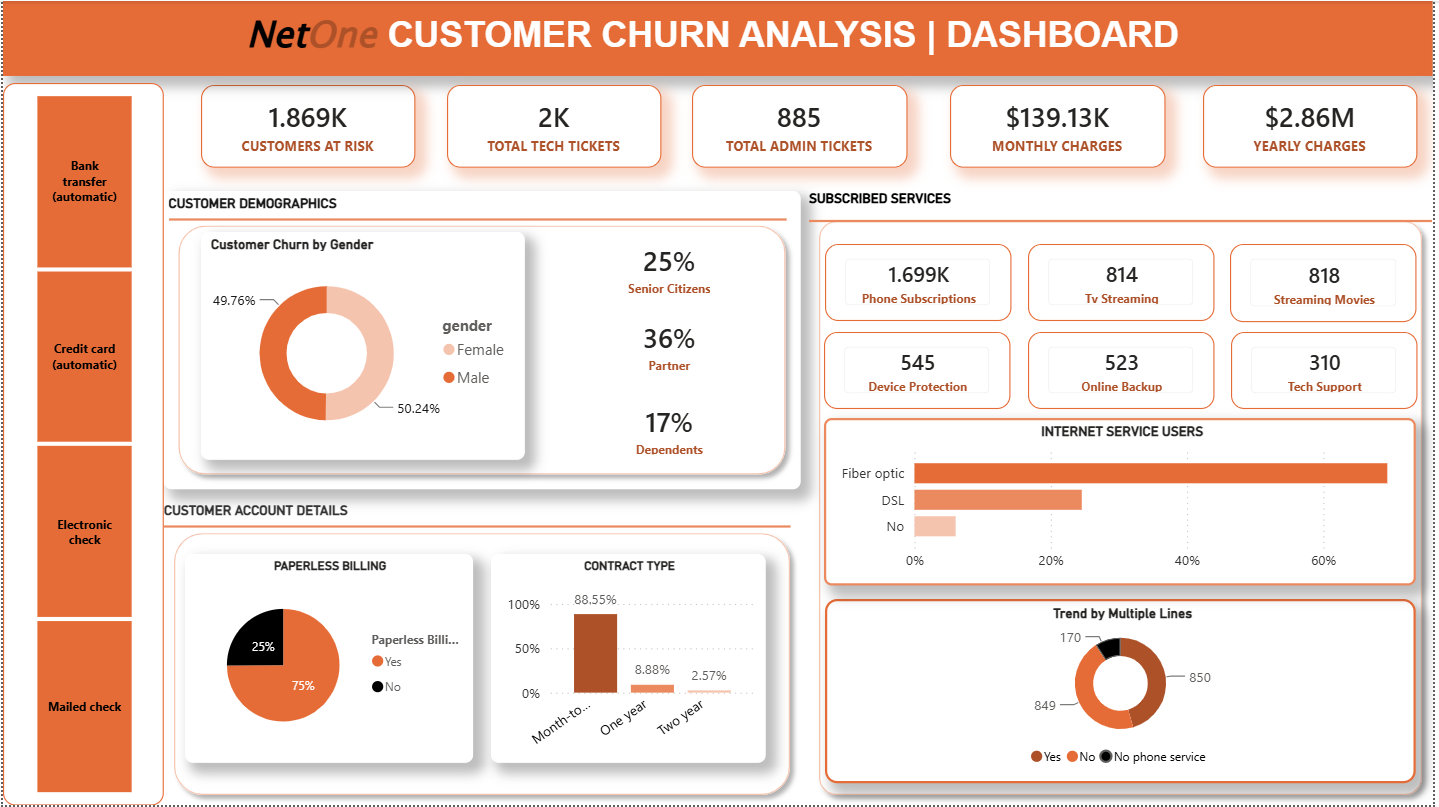

The page's visual inventory and layout, read from the dashboard file:
{"tool":"powerbi","page":{"name":"Executive Dashboard","canvas":[1280,720],"ordinal":0},"visuals":[{"type":"cardVisual","title":"CUSTOMERS AT RISK","fields":{"Data":["CountNonNull(01 Churn-Dataset.customerID)"]},"box":[177.3,75.2,191.6,74.3],"z":0},{"type":"textbox","box":[0,0,1280,67.1],"z":1000},{"type":"cardVisual","title":"CUSTOMERS AT RISK","fields":{"Data":["Sum(01 Churn-Dataset.numTechTickets)"]},"box":[397.6,75.2,191.6,74.3],"z":2000},{"type":"cardVisual","title":"CUSTOMERS AT RISK","fields":{"Data":["Sum(01 Churn-Dataset.numAdminTickets)"]},"box":[617,75.2,192.5,74.3],"z":3000},{"type":"cardVisual","title":"CUSTOMERS AT RISK","fields":{"Data":["Sum(01 Churn-Dataset.TotalCharges)"]},"box":[1074.6,75.2,191.6,74.3],"z":4000},{"type":"cardVisual","title":"CUSTOMERS AT RISK","fields":{"Data":["Sum(01 Churn-Dataset.MonthlyCharges)"]},"box":[848.1,75.2,192.5,74.3],"z":5000},{"type":"shape","title":"CUSTOMER DEMOGRAPHICS ","box":[144.2,170.1,569.6,266.9],"z":6000},{"type":"donutChart","title":"Customer Churn by Gender ","fields":{"Category":["01 Churn-Dataset.gender"],"Y":["CountNonNull(01 Churn-Dataset.customerID)"]},"box":[177.3,206.9,290.1,204.2],"z":7000},{"type":"cardVisual","title":"CUSTOMERS AT RISK","fields":{"Data":["01 Churn-Dataset.sr%"]},"box":[530.1,206.9,133.4,67],"z":8000},{"type":"cardVisual","title":"CUSTOMERS AT RISK","fields":{"Data":["01 Churn-Dataset.% partner"]},"box":[530.1,275.8,133,67],"z":9000},{"type":"cardVisual","title":"CUSTOMERS AT RISK","fields":{"Data":["01 Churn-Dataset.% dependents"]},"box":[530.1,351,133,67],"z":10000},{"type":"shape","title":"SUBSCRIBED SERVICES ","box":[721.8,170.1,557.9,549.9],"z":11000},{"type":"cardVisual","title":"CUSTOMERS AT RISK","fields":{"Data":["CountNonNull(01 Churn-Dataset.PhoneService)"]},"box":[736.1,217.6,166.6,69],"z":12000},{"type":"cardVisual","title":"CUSTOMERS AT RISK","fields":{"Data":["CountNonNull(01 Churn-Dataset.StreamingTV)"]},"box":[917.9,217.6,166.6,69],"z":13000},{"type":"cardVisual","title":"CUSTOMERS AT RISK","fields":{"Data":["CountNonNull(01 Churn-Dataset.DeviceProtection)"]},"box":[735.2,296.4,166.6,69],"z":14000},{"type":"cardVisual","title":"CUSTOMERS AT RISK","fields":{"Data":["CountNonNull(01 Churn-Dataset.OnlineBackup)"]},"box":[917.9,296.4,166.6,69],"z":15000},{"type":"cardVisual","title":"CUSTOMERS AT RISK","fields":{"Data":["CountNonNull(01 Churn-Dataset.StreamingMovies)"]},"box":[1098.8,217.6,167.5,69.9],"z":16000},{"type":"cardVisual","title":"CUSTOMERS AT RISK","fields":{"Data":["CountNonNull(01 Churn-Dataset.TechSupport)"]},"box":[1099.7,296.4,166.6,69],"z":17000},{"type":"donutChart","title":"Trend by Multiple Lines ","fields":{"Category":["01 Churn-Dataset.MultipleLines"],"Y":["CountNonNull(01 Churn-Dataset.customerID)"]},"box":[736.1,535.5,529.3,164.8],"z":18000},{"type":"barChart","title":"INTERNET SERVICE USERS ","fields":{"Category":["01 Churn-Dataset.InternetService"],"Y":["CountNonNull(01 Churn-Dataset.InternetService)"]},"box":[735.2,373.4,530.1,150.4],"z":19000},{"type":"shape","title":"CUSTOMER ACCOUNT DETAILS","box":[144.2,449.6,569.6,270.4],"z":20000},{"type":"pieChart","title":"PAPERLESS BILLING","fields":{"Category":["01 Churn-Dataset.PaperlessBilling"],"Y":["CountNonNull(01 Churn-Dataset.PaperlessBilling)"]},"box":[163,495.2,257.9,187.2],"z":21000},{"type":"columnChart","title":"CONTRACT TYPE","fields":{"Category":["01 Churn-Dataset.Contract"],"Y":["CountNonNull(01 Churn-Dataset.Contract)"]},"box":[437,495.2,246.3,187.2],"z":22000},{"type":"shape","box":[148.7,184.5,553.4,22.4],"z":23000},{"type":"shape","box":[144.2,457.6,561.5,26],"z":24000},{"type":"shape","box":[721.8,170.1,557.9,53.7],"z":25000},{"type":"slicer","fields":{"Values":["01 Churn-Dataset.PaymentMethod"]},"box":[0,73.4,144.2,646.6],"z":26000}]}

Visuals, with their boxes in screenshot pixels (x1, y1, x2, y2), scaled from the page's 1280x720 canvas onto the 1439x807 screenshot:
"CUSTOMERS AT RISK" cardVisual: 199/84/415/168
textbox: 0/0/1438/75
"CUSTOMERS AT RISK" cardVisual: 447/84/662/168
"CUSTOMERS AT RISK" cardVisual: 694/84/910/168
"CUSTOMERS AT RISK" cardVisual: 1208/84/1423/168
"CUSTOMERS AT RISK" cardVisual: 953/84/1170/168
"CUSTOMER DEMOGRAPHICS " shape: 162/191/802/490
"Customer Churn by Gender " donutChart: 199/232/525/461
"CUSTOMERS AT RISK" cardVisual: 596/232/746/307
"CUSTOMERS AT RISK" cardVisual: 596/309/745/384
"CUSTOMERS AT RISK" cardVisual: 596/393/745/469
"SUBSCRIBED SERVICES " shape: 811/191/1438/806
"CUSTOMERS AT RISK" cardVisual: 828/244/1015/321
"CUSTOMERS AT RISK" cardVisual: 1032/244/1219/321
"CUSTOMERS AT RISK" cardVisual: 827/332/1014/410
"CUSTOMERS AT RISK" cardVisual: 1032/332/1219/410
"CUSTOMERS AT RISK" cardVisual: 1235/244/1424/322
"CUSTOMERS AT RISK" cardVisual: 1236/332/1424/410
"Trend by Multiple Lines " donutChart: 828/600/1423/785
"INTERNET SERVICE USERS " barChart: 827/419/1422/587
"CUSTOMER ACCOUNT DETAILS" shape: 162/504/802/806
"PAPERLESS BILLING" pieChart: 183/555/473/765
"CONTRACT TYPE" columnChart: 491/555/768/765
shape: 167/207/789/232
shape: 162/513/793/542
shape: 811/191/1438/251
slicer - 01 Churn-Dataset.PaymentMethod: 0/82/162/806
